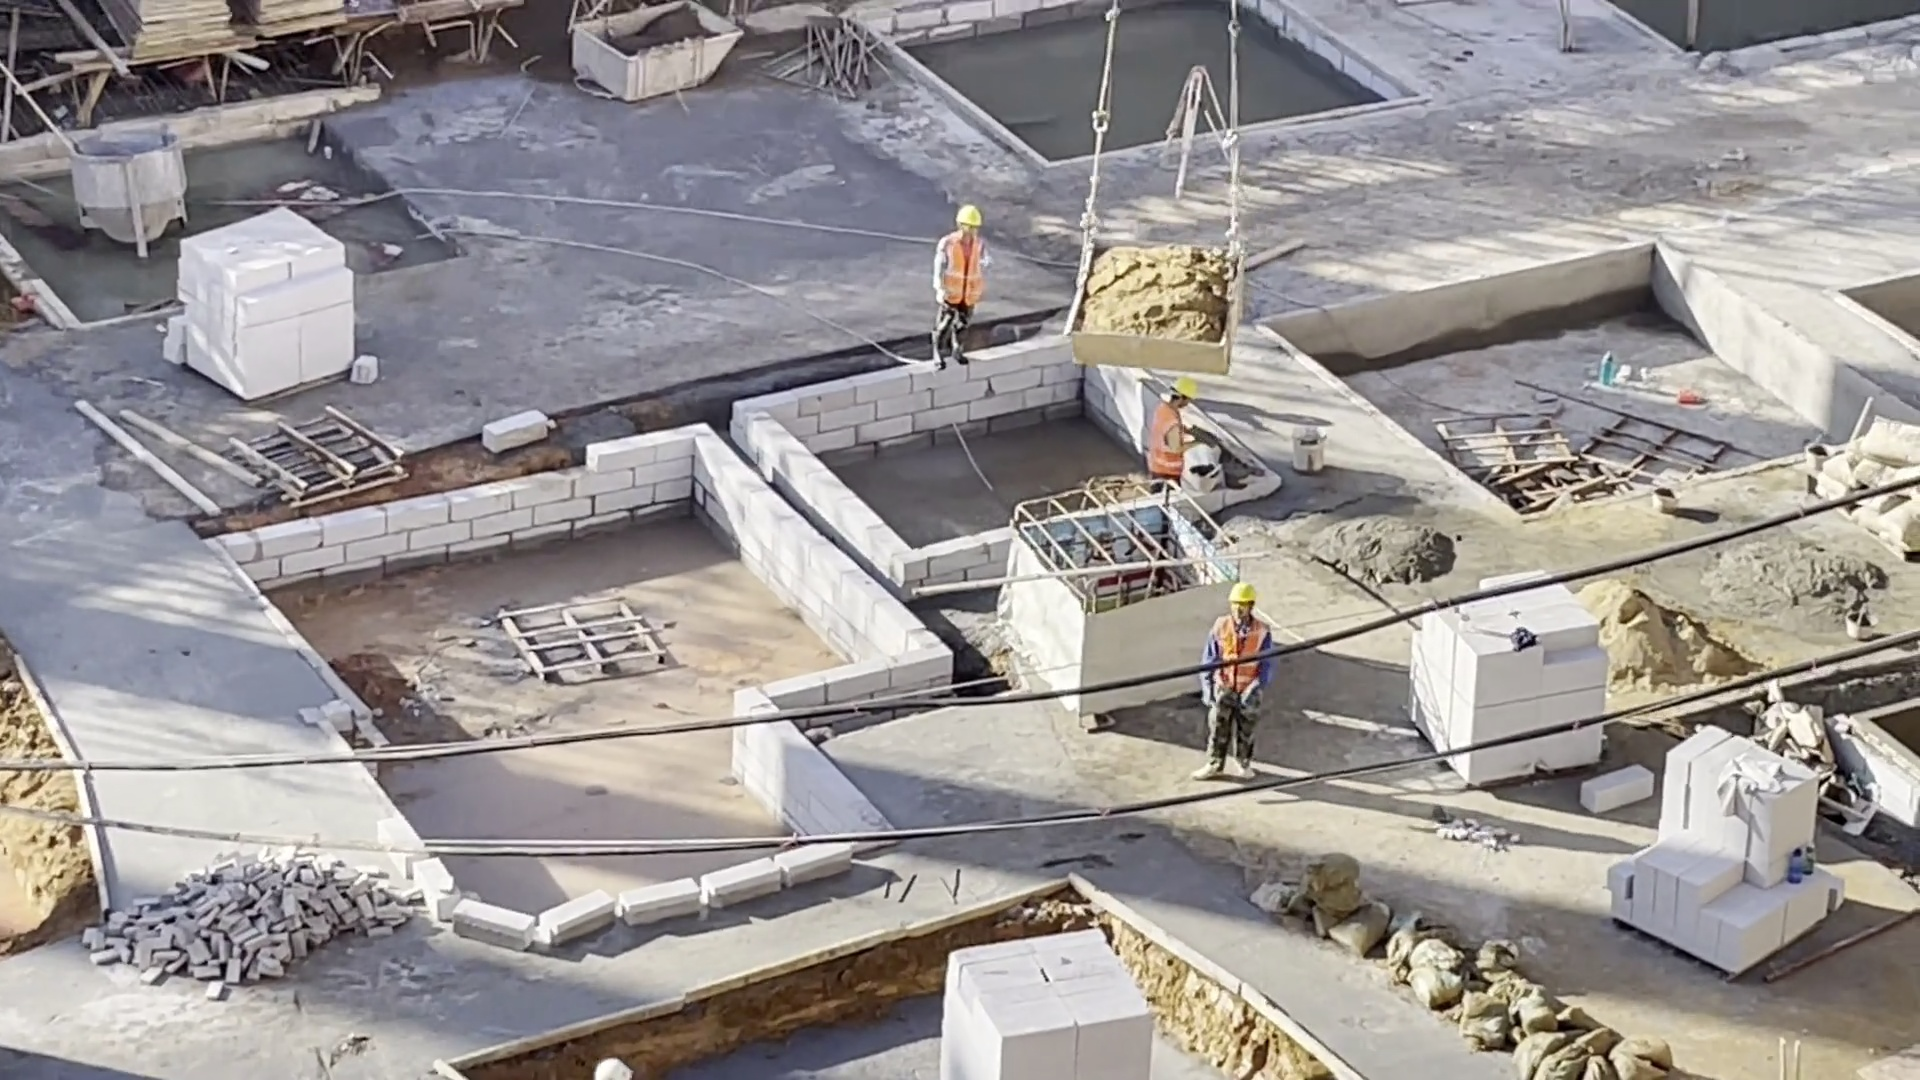board: (96, 4, 234, 72), (240, 1, 347, 50)
brick: (1605, 723, 1845, 979), (164, 206, 384, 398), (936, 926, 1151, 1080), (1409, 619, 1609, 719)
helmet: (1162, 375, 1200, 404), (597, 1054, 629, 1080), (954, 204, 985, 231), (1228, 583, 1256, 602)
hopper: (1051, 235, 1247, 375), (59, 122, 193, 267), (565, 6, 743, 105)
person: (923, 197, 997, 369), (1138, 374, 1221, 494), (1199, 579, 1274, 660)
vest: (936, 230, 988, 311), (1145, 405, 1192, 478), (1211, 615, 1274, 657)
